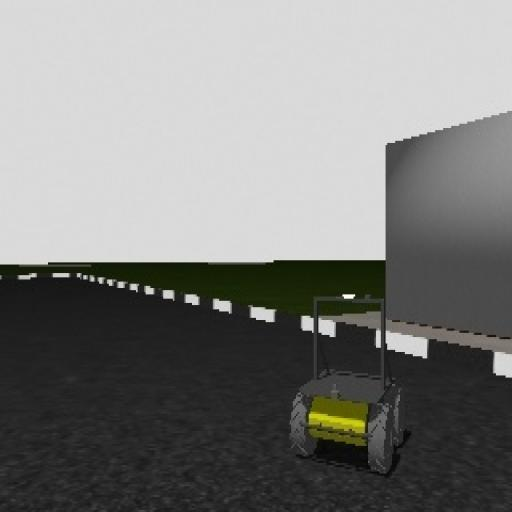huskya200: (289, 274, 407, 484)
